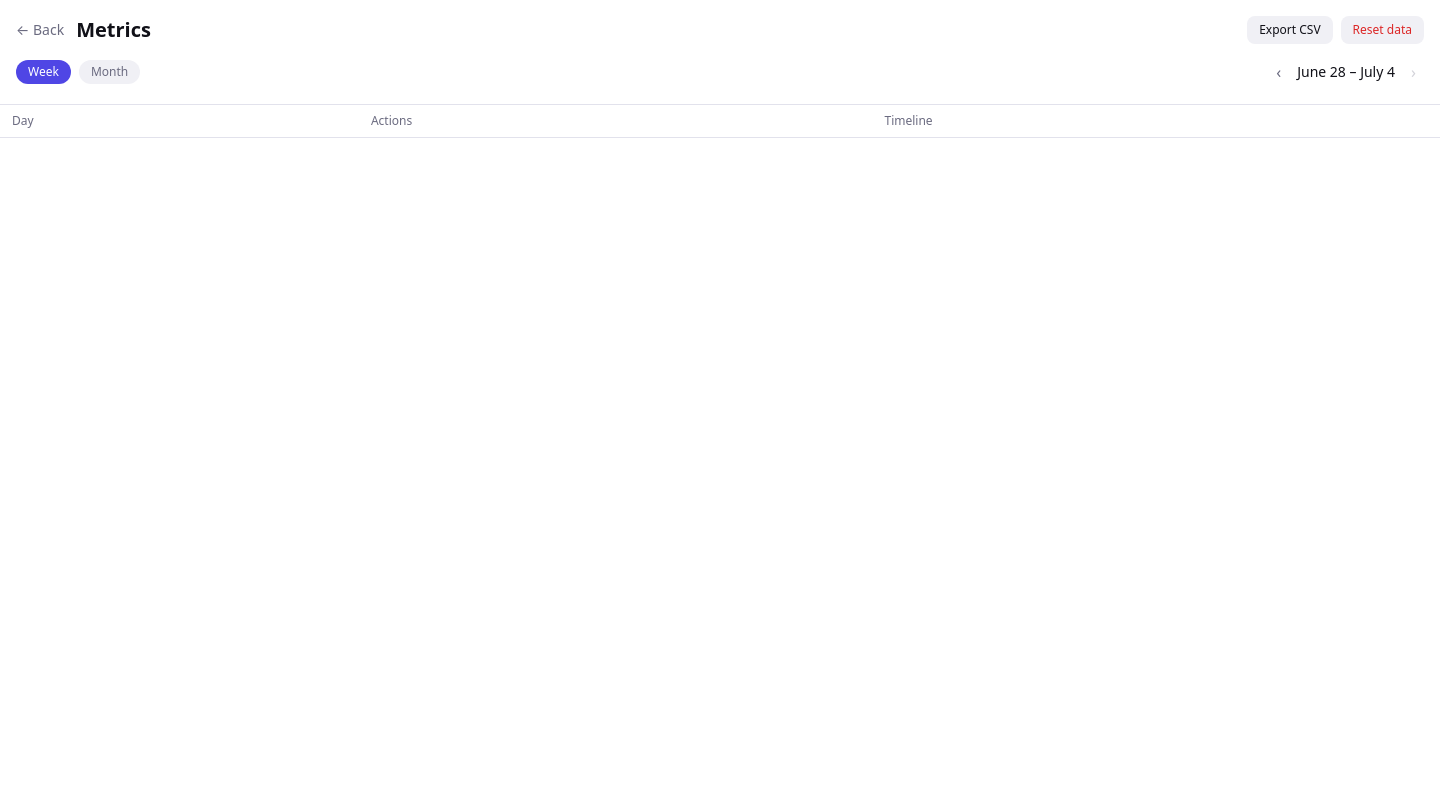
Test: MetricsView › export button opens the range dialog
Click the button "Export CSV".
click(1290, 30)  # box [1247,16,1333,44]
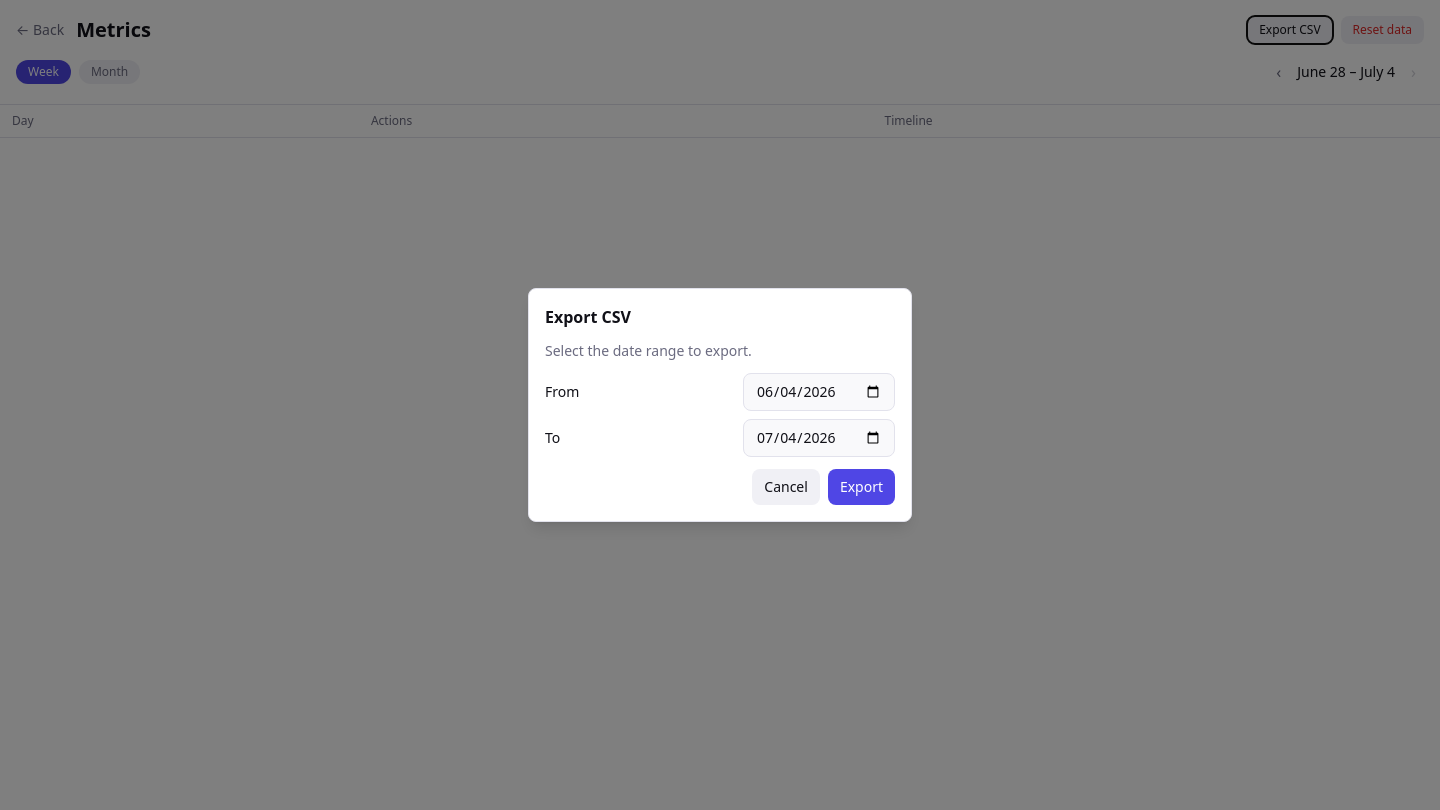
Expected: the dialog "Export CSV" is shown, [528,288,912,522]
